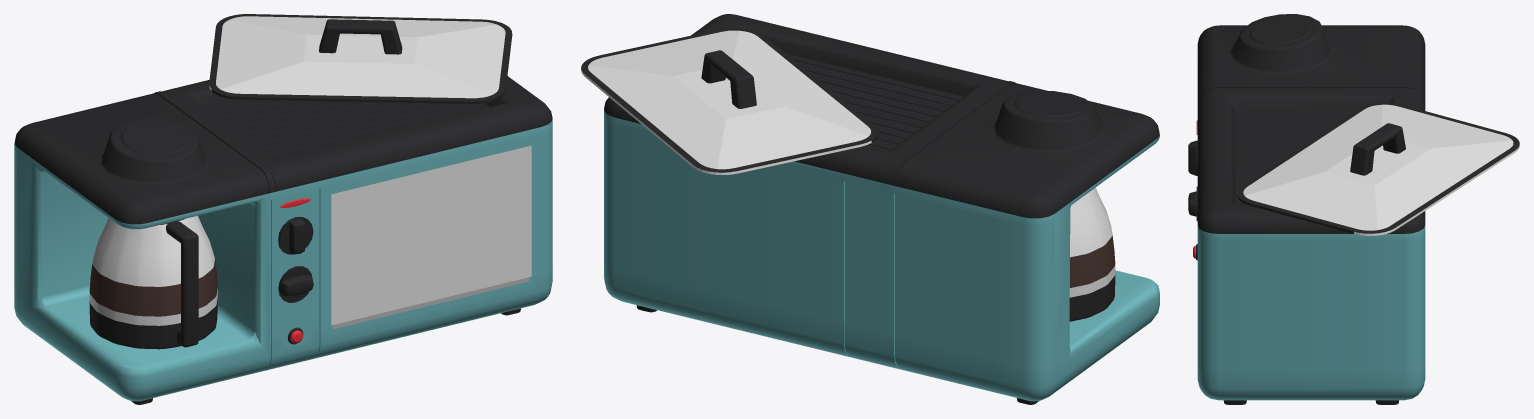
The model's file is breakfast_station_2.fbx.
3 renders of one model, left to right at view 1: azimuth 30°, elevation 25°; view 2: azimuth 150°, elevation 25°; view 3: azimuth 270°, elevation 25°, orthographic. The views are drawn at different scales.
Parts seen in each view (by area): view 1: station, oven+glass+pannel, kid_glass, pot_solid.001, pot_glass.001, lid_solid; view 2: station, kid_glass, lid_solid, pot_glass.001, pot_solid.001; view 3: station, kid_glass, lid_solid.
Part boxes in pixels (box(x1,y1,x2,y2)): station: box(14, 76, 552, 404); oven+glass+pannel: box(331, 145, 531, 325); kid_glass: box(216, 16, 505, 98); pot_solid.001: box(89, 219, 217, 349); pot_glass.001: box(89, 215, 217, 325); lid_solid: box(209, 14, 512, 103); station: box(604, 14, 1159, 404); kid_glass: box(588, 30, 871, 169); lid_solid: box(581, 28, 877, 174); pot_glass.001: box(1069, 187, 1115, 297); pot_solid.001: box(1069, 235, 1115, 321); station: box(1188, 14, 1425, 404); kid_glass: box(1243, 104, 1513, 230); lid_solid: box(1237, 102, 1519, 235).
Bounding box in the file's own units: 450 × 226 × 291.
Materials: 2 (2 with a texture image).
